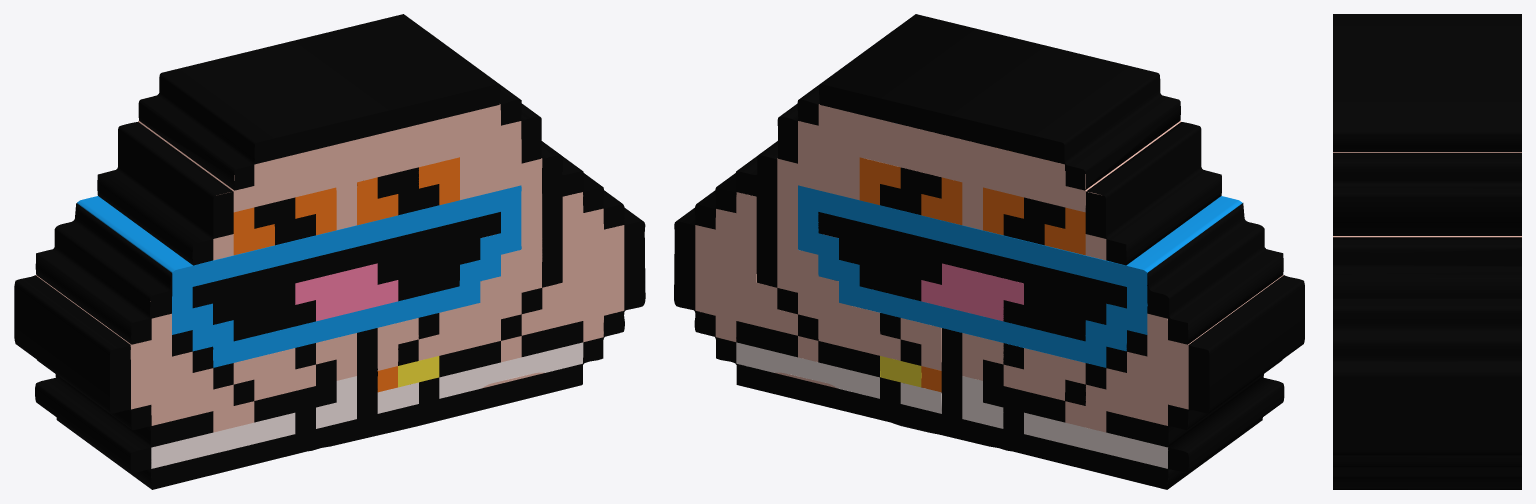
File: Toadz_2757.glb
The picture shows the model from 3 angles, left to right: view 1: azimuth 30°, elevation 25°; view 2: azimuth 150°, elevation 25°; view 3: azimuth 270°, elevation 25°; orthographic projection.
Visible parts, largest first — view 1: Curve; view 2: Curve; view 3: Curve.
Boxes of the visible parts, box(x1,y1,x2,y2) form: Curve: box(14, 14, 645, 489); Curve: box(674, 14, 1304, 489); Curve: box(1333, 14, 1521, 489).
Bounding box in the file's own units: 3.24 × 1.87 × 1.
